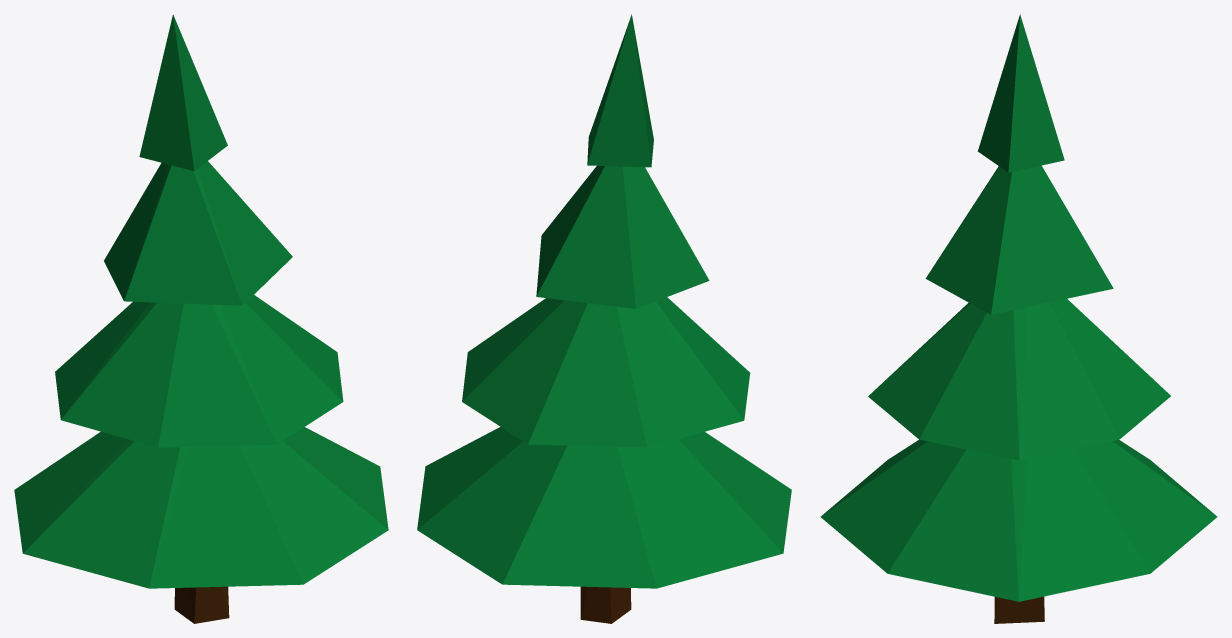
The model's file is U_Egle.fbx.
3 views of the same model, side by side, from view 1: azimuth 30°, elevation 25°; view 2: azimuth 150°, elevation 25°; view 3: azimuth 270°, elevation 25° (orthographic). The views are drawn at different scales.
Parts seen in each view (by area): view 1: Eglė; view 2: Eglė; view 3: Eglė.
Boxes of the visible parts, bbox=[...] form: Eglė: bbox=[14, 14, 388, 623]; Eglė: bbox=[417, 14, 791, 623]; Eglė: bbox=[820, 14, 1217, 623].
Bounding box in the file's own units: 2.23 × 3.6 × 2.2.
